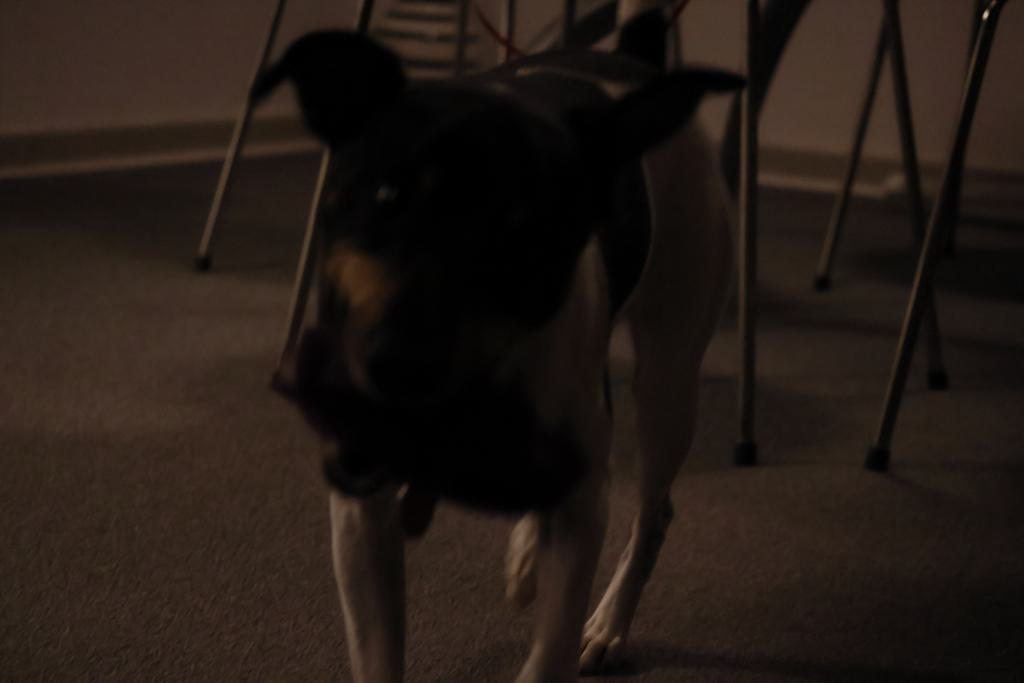Dog: (239, 0, 758, 683)
